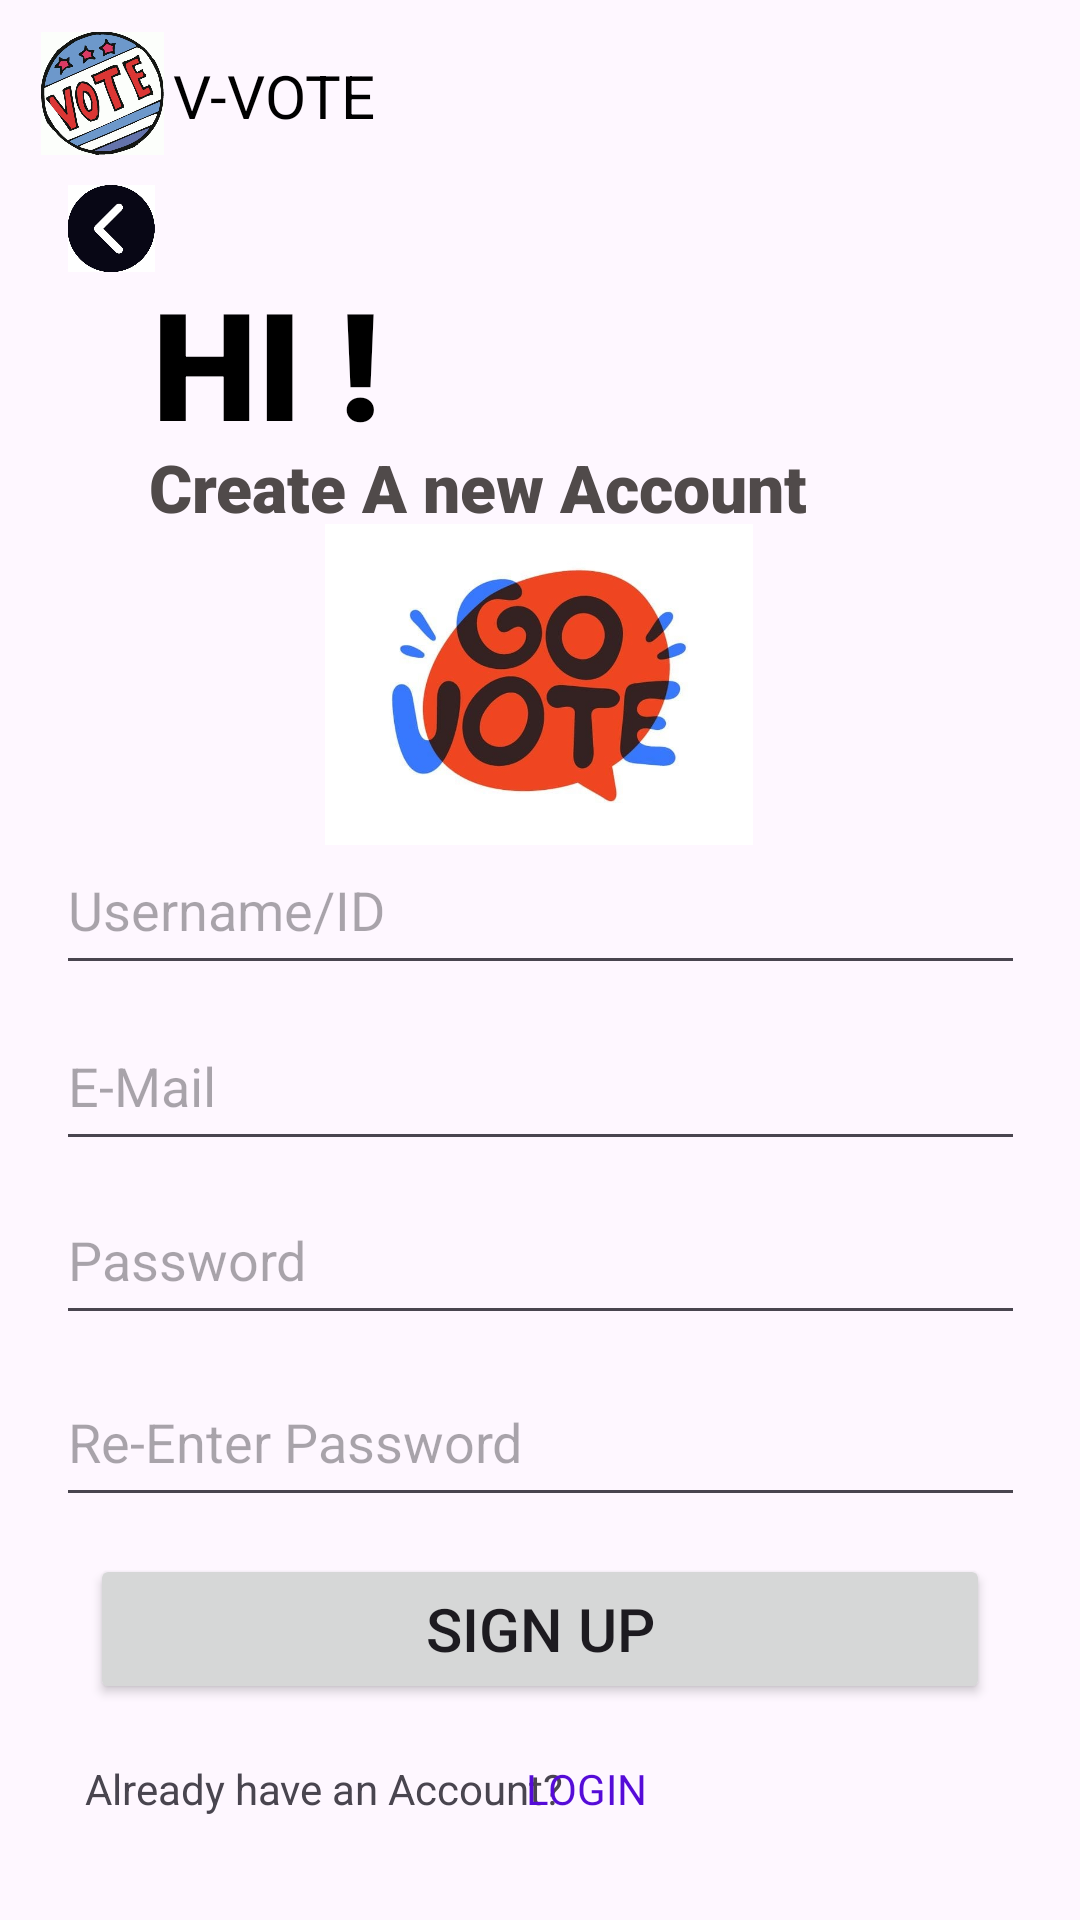

Icon bounding boxes for this 1080 × 1920 phone screenshot, format (x1, y1, x2, y2):
back: (68, 185, 155, 272)
